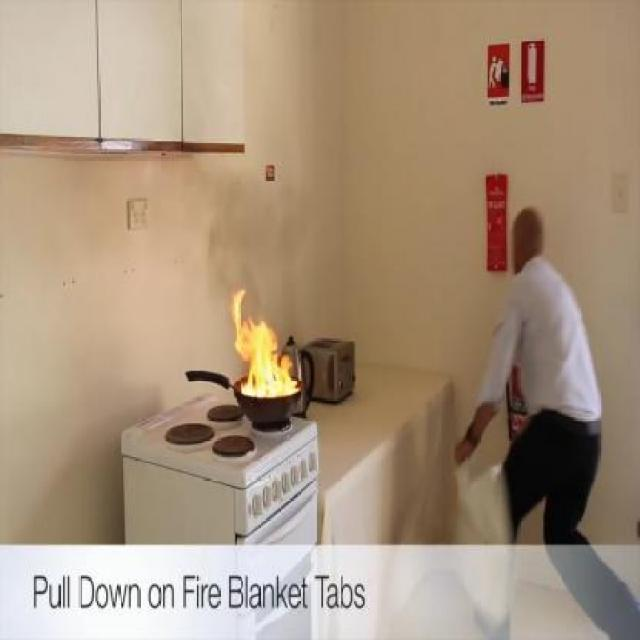fire: (231, 290, 298, 397)
